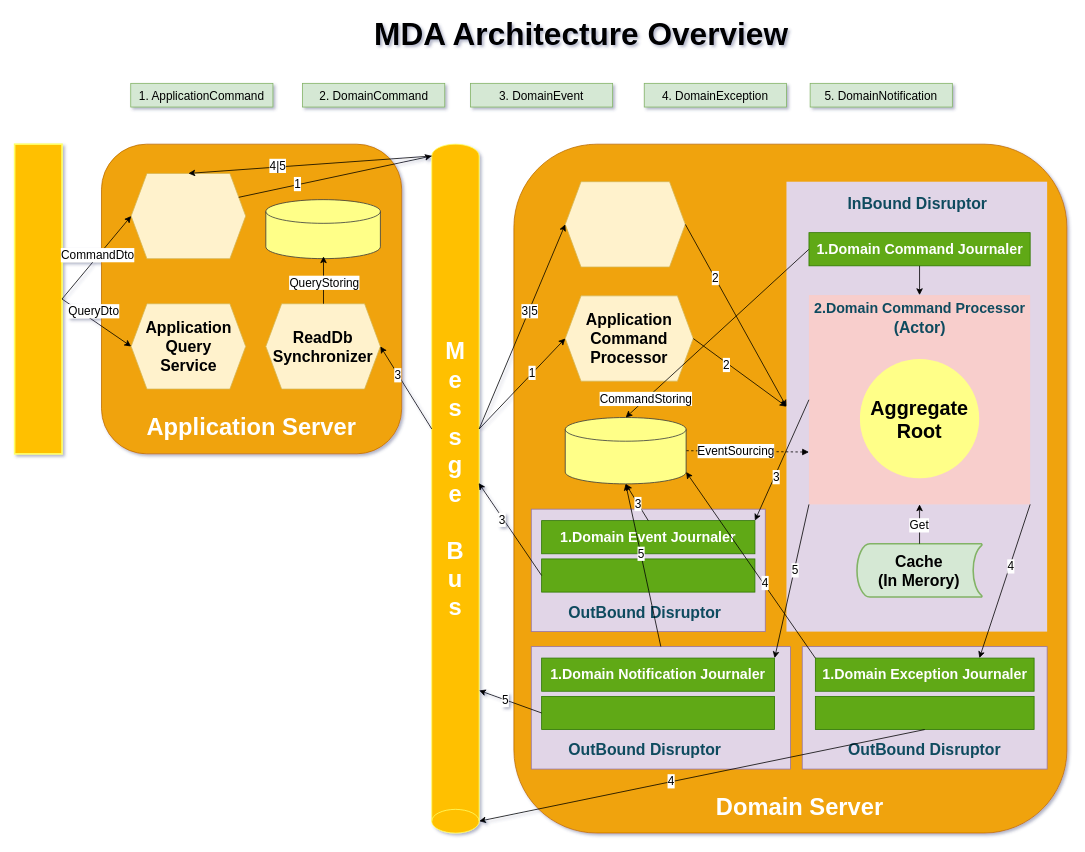
Some shapes in this 1085 by 852 pixel diagram are drawn without their labels. Here are the shapes that lost their labels. From the top down, the centre of each, then its label:
At (188,216): "Application Command Service".
At (322,229): "ReadDb".
At (624,224): "Saga Processor Manager".
At (37,298): "UI".
At (625,450): "StateDb".
At (648,575): "2.Domain Event Service".
At (658,713): "2.Domain Nofification Service".
At (924,713): "2.Domain Exception Service".
